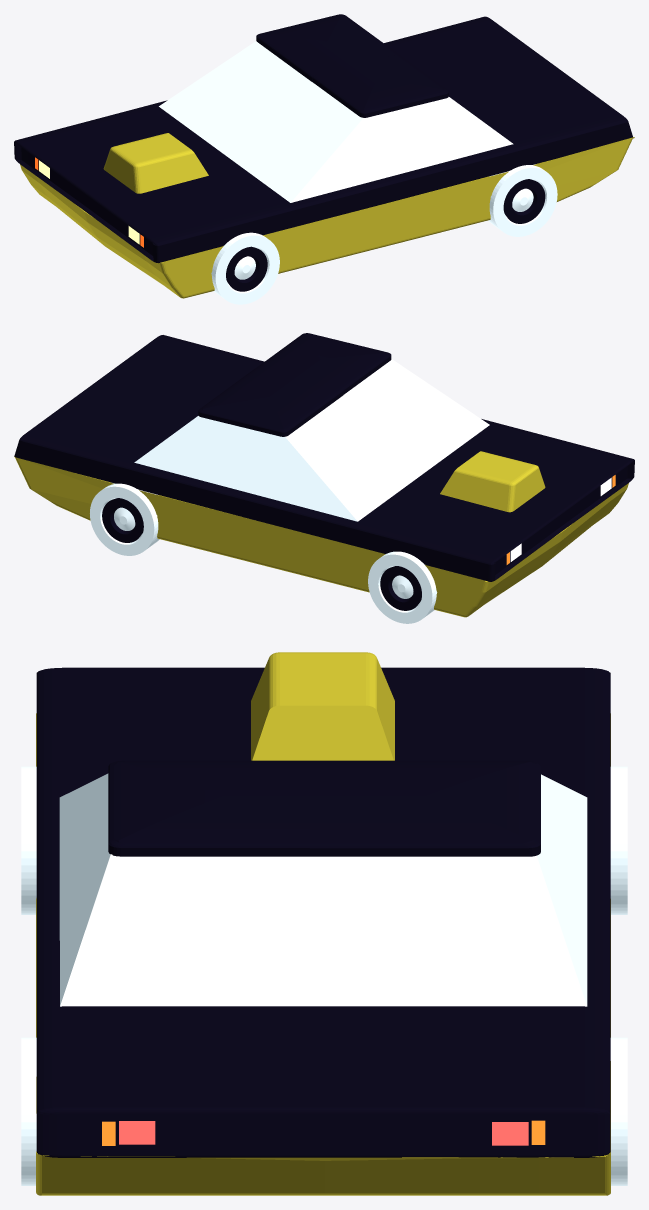
File: dumoulin_glenn_candylab.glb
3 renders of one model, top to bottom at view 1: azimuth 30°, elevation 25°; view 2: azimuth 150°, elevation 25°; view 3: azimuth 270°, elevation 25°, orthographic. The views are drawn at different scales.
Visible parts, largest first — view 1: Upper_body, Windows.001, Body, Roof.003, Roof.004, Hood_Engine.001, Wheel.002, Wheel.003, Wheel_Inside.003, Wheel_Inside.002; view 2: Upper_body, Windows.001, Body, Roof.004, Roof.003, Hood_Engine.001, Wheel.001, Wheel, Wheel_Inside, Wheel_Inside.001; view 3: Upper_body, Windows.001, Body, Roof.004, Roof.003, Hood_Engine.001, Wheel, Wheel.001, Wheel.003, Wheel.002, Back_Light.002, Back_Light.003.
Boxes of the visible parts, x1,y1,x2,y2 form: Upper_body: (14,16,632,263); Windows.001: (159,41,513,202); Body: (20,137,634,298); Roof.003: (312,55,448,117); Roof.004: (256,14,399,81); Hood_Engine.001: (103,133,208,193); Wheel.002: (488,164,557,236); Wheel.003: (211,232,279,304); Wheel_Inside.003: (226,246,267,291); Wheel_Inside.002: (503,179,545,223); Upper_body: (14,335,634,581); Windows.001: (134,359,489,521); Body: (14,456,628,617); Roof.004: (198,368,343,436); Roof.003: (255,333,391,394); Hood_Engine.001: (440,451,545,512); Wheel.001: (90,483,159,555); Wheel: (368,551,437,623); Wheel_Inside: (102,498,143,542); Wheel_Inside.001: (380,566,421,610); Upper_body: (36,667,610,1157); Windows.001: (59,773,587,1006); Body: (36,713,610,1195); Roof.004: (309,760,540,856); Roof.003: (108,760,338,856); Hood_Engine.001: (251,652,394,760); Wheel: (610,766,627,914); Wheel.001: (610,1037,627,1185); Wheel.003: (21,766,36,914); Wheel.002: (21,1037,36,1185); Back_Light.002: (492,1122,528,1145); Back_Light.003: (119,1121,155,1144).
Bounding box in the file's own units: 3.85 × 1.11 × 2.11.
